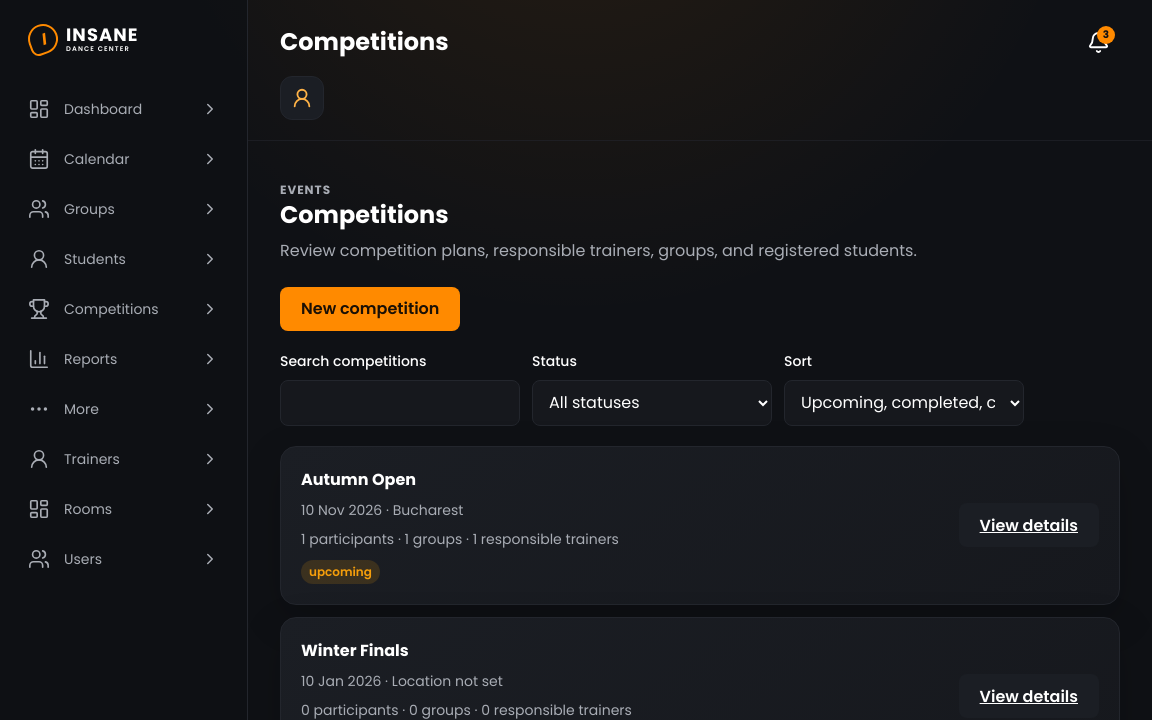
Test: CompetitionsPage › filters competitions by status and name
Expected: the heading "Autumn Open" is shown, x1=301 y1=468 x2=416 y2=491
Select "Completed" in the dropdown labelled "Status": coordinates (652, 403) x1=532 y1=380 x2=772 y2=426
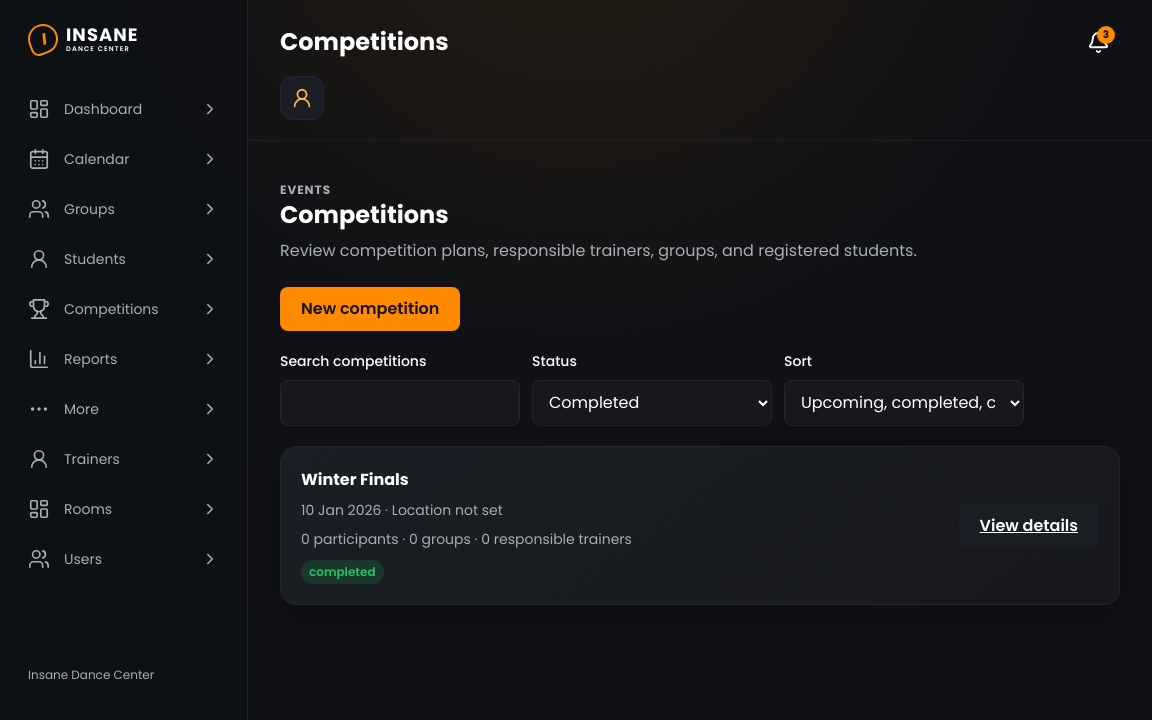
Expected: the heading "Winter Finals" is shown, x1=301 y1=468 x2=409 y2=491
Expected: the heading "Autumn Open" is gone
Select "All statuses" in the dropdown labelled "Status": coordinates (652, 403) x1=532 y1=380 x2=772 y2=426
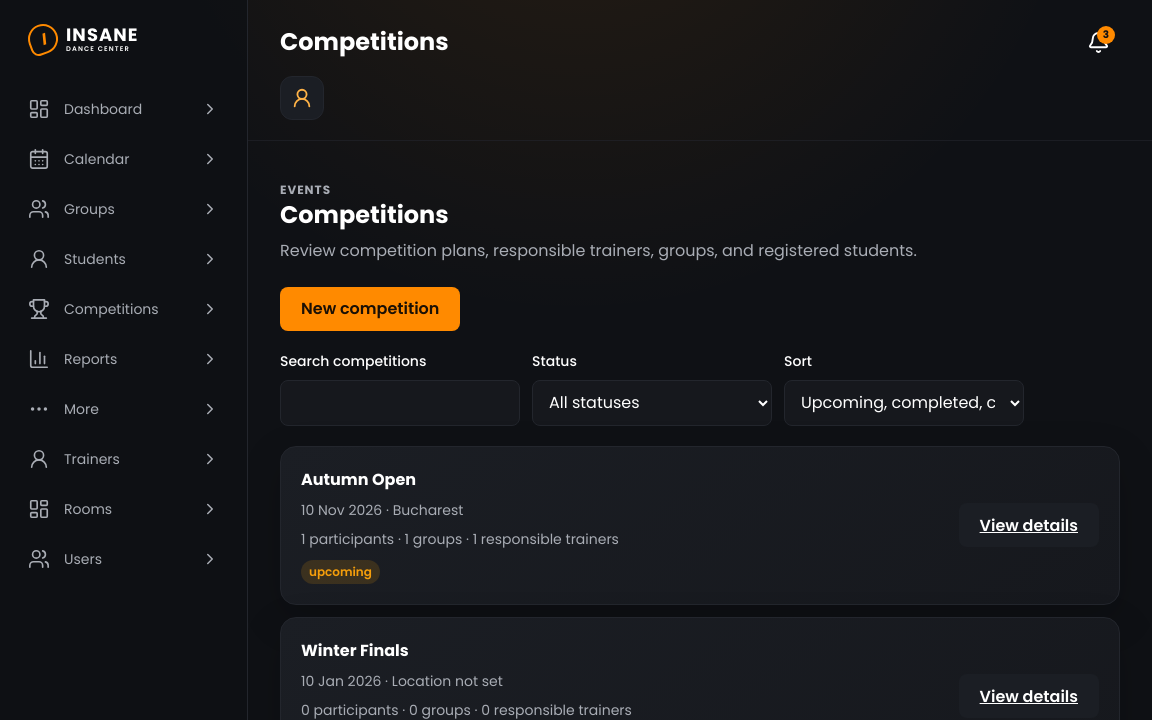
In the field labelled "Search competitions": coordinates (400, 403) x1=280 y1=380 x2=520 y2=426, type "cup"
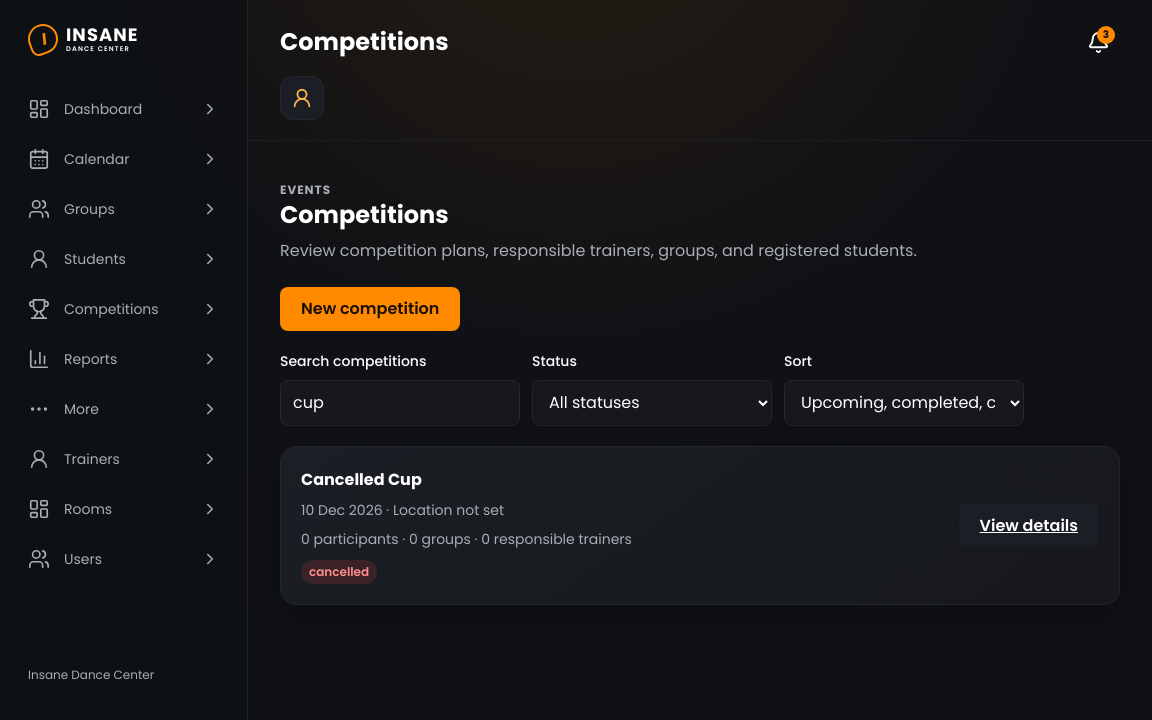
Expected: the heading "Cancelled Cup" is shown, x1=301 y1=468 x2=422 y2=491
Expected: the heading "Winter Finals" is gone
